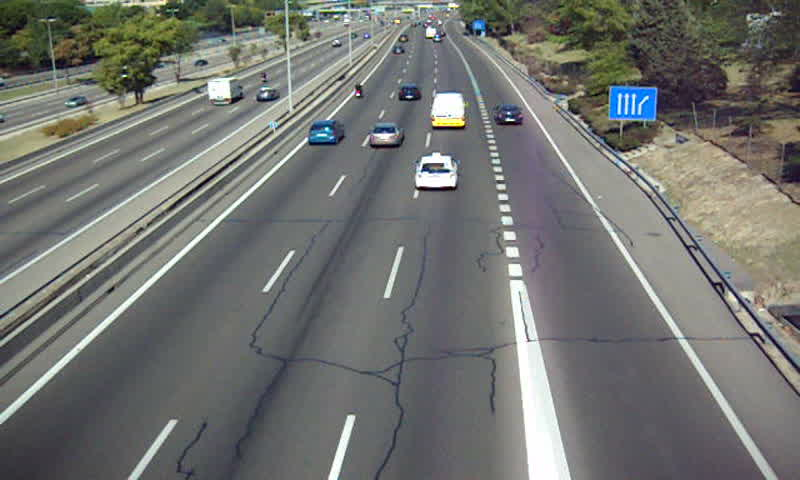car: (414, 155, 458, 189), (306, 120, 344, 144), (370, 123, 402, 147), (494, 104, 524, 127), (397, 85, 421, 102)
motorcycle: (352, 82, 364, 101)
van: (431, 93, 465, 130)
